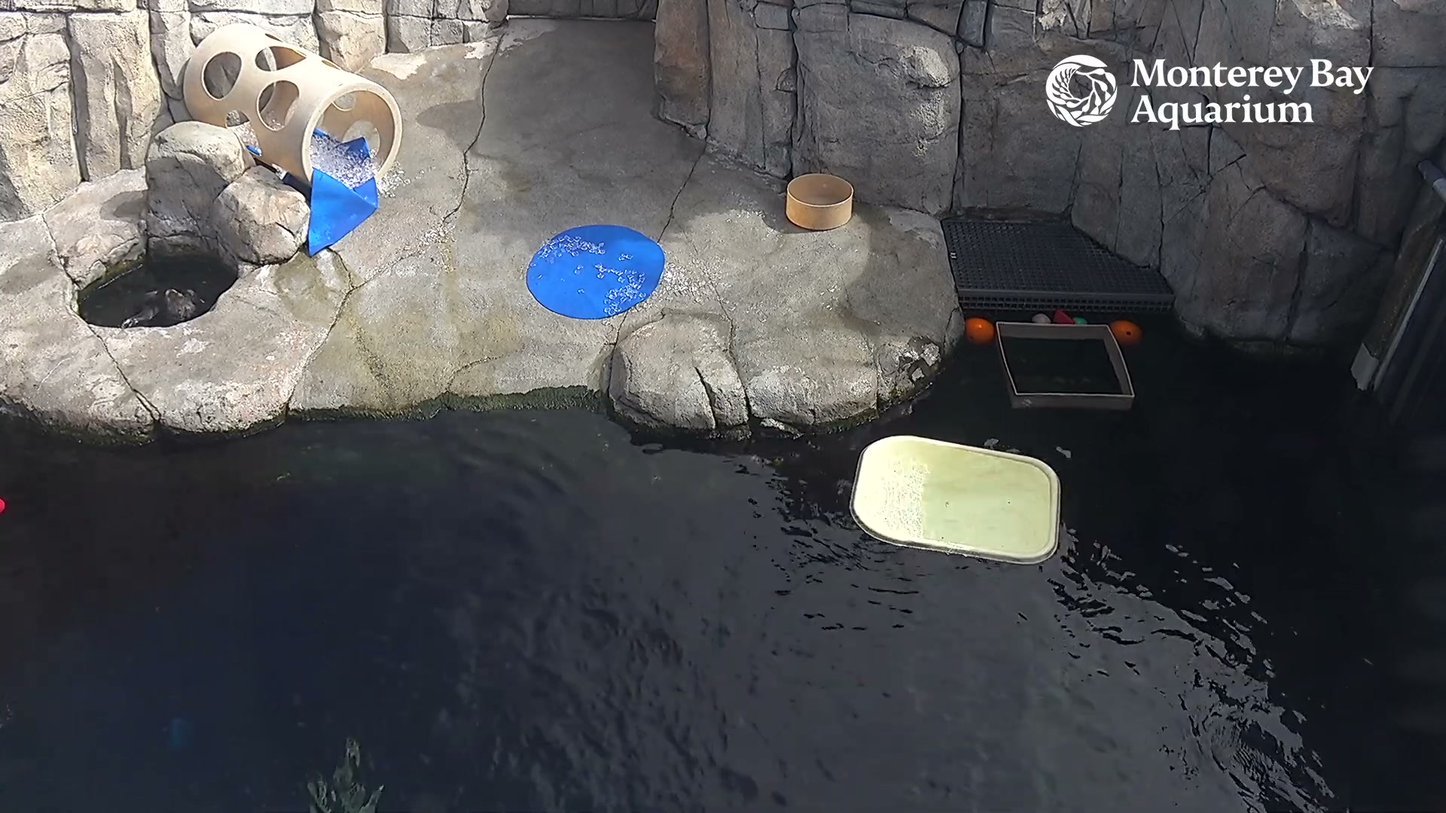Southern Sea Otter: (121, 266, 214, 344)
